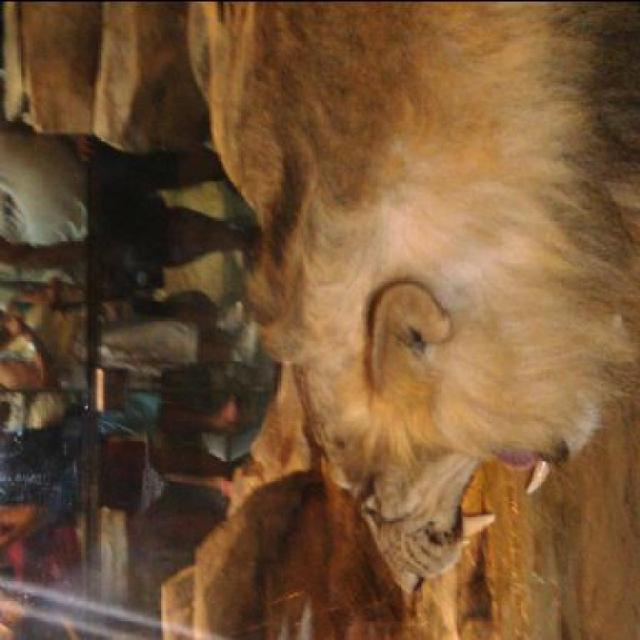Lion: (178, 2, 638, 603)
